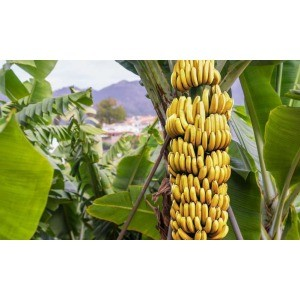banana_brain food: (169, 100, 231, 179)
